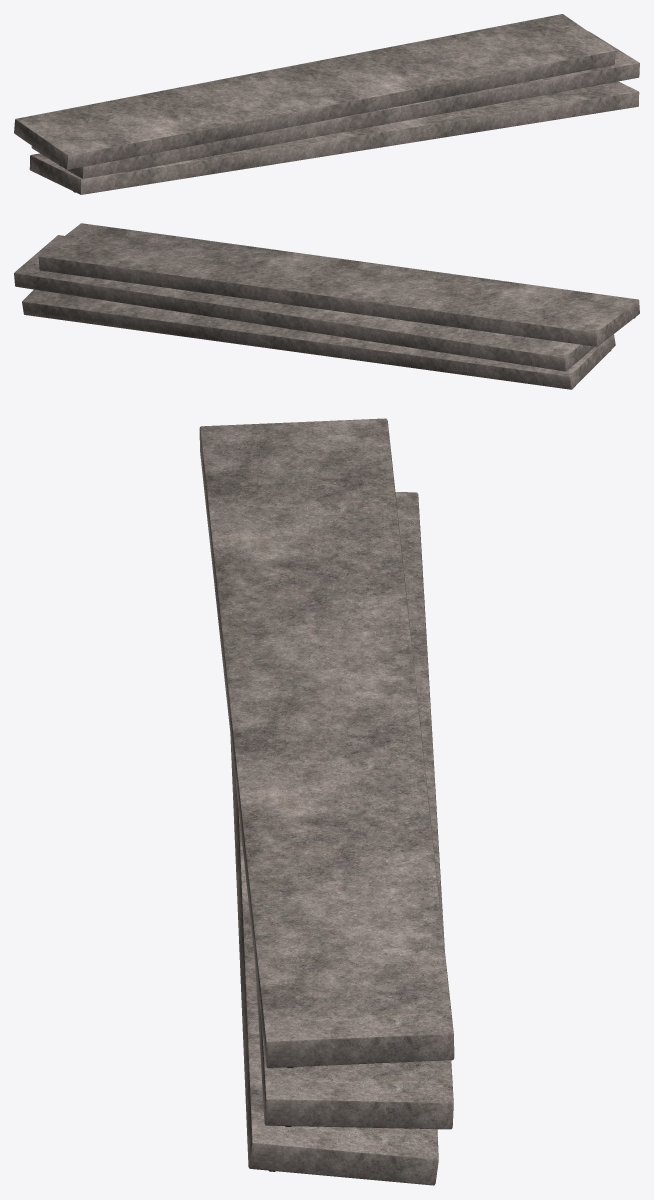
File: ESQ-PCH-001_anim.glb
The picture shows the model from 3 angles, top to bottom: view 1: azimuth 30°, elevation 25°; view 2: azimuth 150°, elevation 25°; view 3: azimuth 270°, elevation 25°; orthographic projection. The views are drawn at different scales.
Parts seen in each view (by area): view 1: ESQ-PCH-001_anim2, ESQ-PCH-001_anim0, ESQ-PCH-001_anim1; view 2: ESQ-PCH-001_anim2, ESQ-PCH-001_anim1, ESQ-PCH-001_anim0; view 3: ESQ-PCH-001_anim2, ESQ-PCH-001_anim1, ESQ-PCH-001_anim0.
Boxes of the visible parts, x1,y1,x2,y2 form: ESQ-PCH-001_anim2: [14, 14, 615, 169]; ESQ-PCH-001_anim0: [29, 81, 639, 194]; ESQ-PCH-001_anim1: [31, 31, 639, 178]; ESQ-PCH-001_anim2: [38, 223, 639, 346]; ESQ-PCH-001_anim1: [14, 235, 594, 371]; ESQ-PCH-001_anim0: [22, 289, 615, 389]; ESQ-PCH-001_anim2: [199, 418, 454, 1067]; ESQ-PCH-001_anim1: [255, 492, 453, 1129]; ESQ-PCH-001_anim0: [230, 734, 438, 1185].
Bounding box in the file's own units: 1.26 × 0.2326 × 0.2433.
2 materials, 1 textured.
